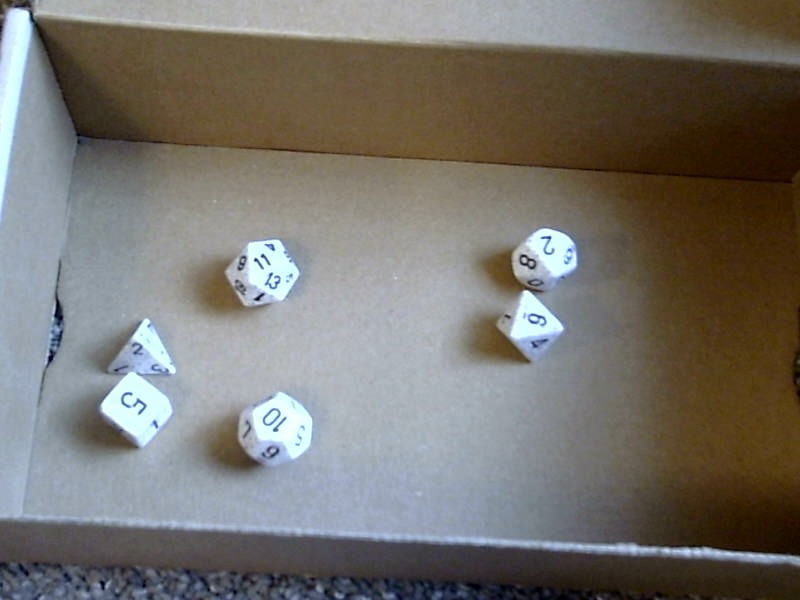d10 2: (501, 215, 591, 293)
d12 10: (231, 389, 319, 469)
d20 11: (214, 228, 308, 317)
d4 2: (97, 311, 180, 375)
d6 5: (94, 371, 174, 450)
d8 6: (488, 290, 569, 369)
